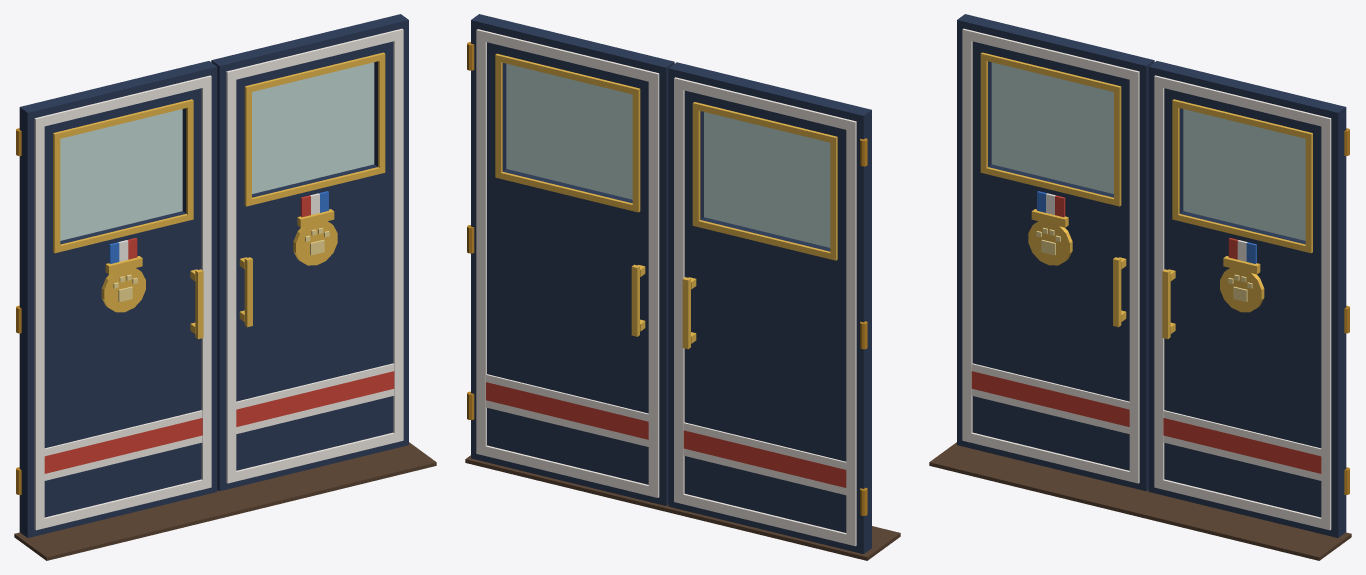
Rendered from CatCafe_Door_Medal_Front.glb.
3 renders of one model, left to right at view 1: azimuth 30°, elevation 25°; view 2: azimuth 150°, elevation 25°; view 3: azimuth 330°, elevation 25°, orthographic. The views are drawn at different scales.
Parts seen in each view (by area): view 1: CatCafe_Door_Medal_Front_LeafR, CatCafe_Door_Medal_Front_LeafL, CatCafe_Door_Medal_Front_LeafL_Glass, CatCafe_Door_Medal_Front_LeafR_Glass, CatCafe_Door_Medal_Front; view 2: CatCafe_Door_Medal_Front_LeafR, CatCafe_Door_Medal_Front_LeafL, CatCafe_Door_Medal_Front_LeafL_Glass, CatCafe_Door_Medal_Front_LeafR_Glass, CatCafe_Door_Medal_Front; view 3: CatCafe_Door_Medal_Front_LeafL, CatCafe_Door_Medal_Front_LeafR, CatCafe_Door_Medal_Front_LeafR_Glass, CatCafe_Door_Medal_Front_LeafL_Glass, CatCafe_Door_Medal_Front.
Boxes of the visible parts, x1,y1,x2,y2 form: CatCafe_Door_Medal_Front_LeafR: (16,61,217,537); CatCafe_Door_Medal_Front_LeafL: (211,14,408,491); CatCafe_Door_Medal_Front_LeafL_Glass: (252,62,374,193); CatCafe_Door_Medal_Front_LeafR_Glass: (60,109,182,240); CatCafe_Door_Medal_Front: (14,442,436,560); CatCafe_Door_Medal_Front_LeafR: (668,62,871,554); CatCafe_Door_Medal_Front_LeafL: (467,14,674,505); CatCafe_Door_Medal_Front_LeafL_Glass: (506,63,632,199); CatCafe_Door_Medal_Front_LeafR_Glass: (704,112,830,247); CatCafe_Door_Medal_Front: (465,455,900,560); CatCafe_Door_Medal_Front_LeafL: (1148,61,1349,537); CatCafe_Door_Medal_Front_LeafR: (957,14,1154,491); CatCafe_Door_Medal_Front_LeafR_Glass: (991,62,1113,193); CatCafe_Door_Medal_Front_LeafL_Glass: (1183,109,1305,240); CatCafe_Door_Medal_Front: (929,442,1351,560).
Size of the model in its own units: 6.96 by 7.33 by 1.19.
Materials: 1 (1 with a texture image).
